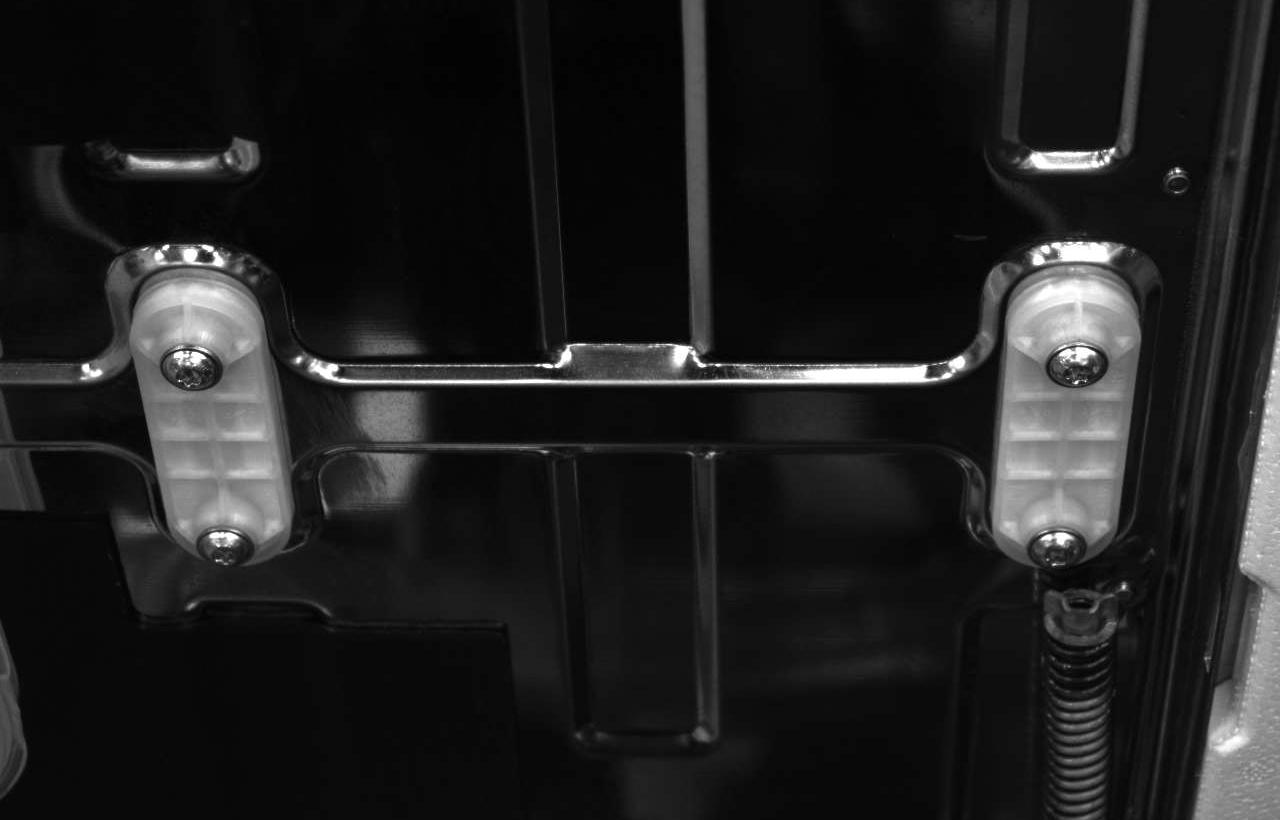vida-ok: (156, 332, 227, 399), (1046, 332, 1113, 399), (190, 515, 256, 574), (1024, 515, 1090, 574)
